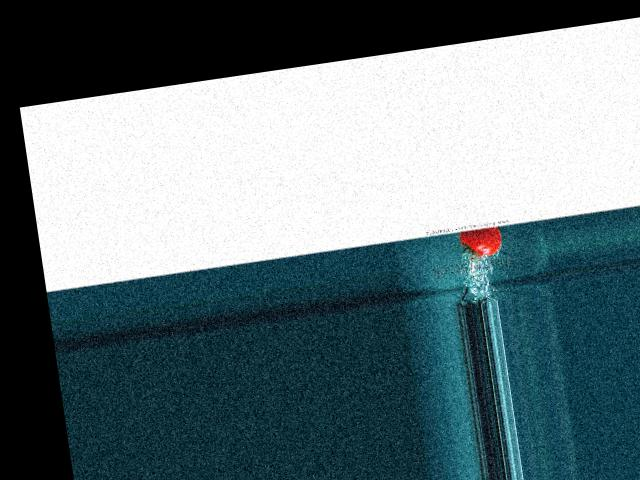tomato: (457, 225, 503, 259)
